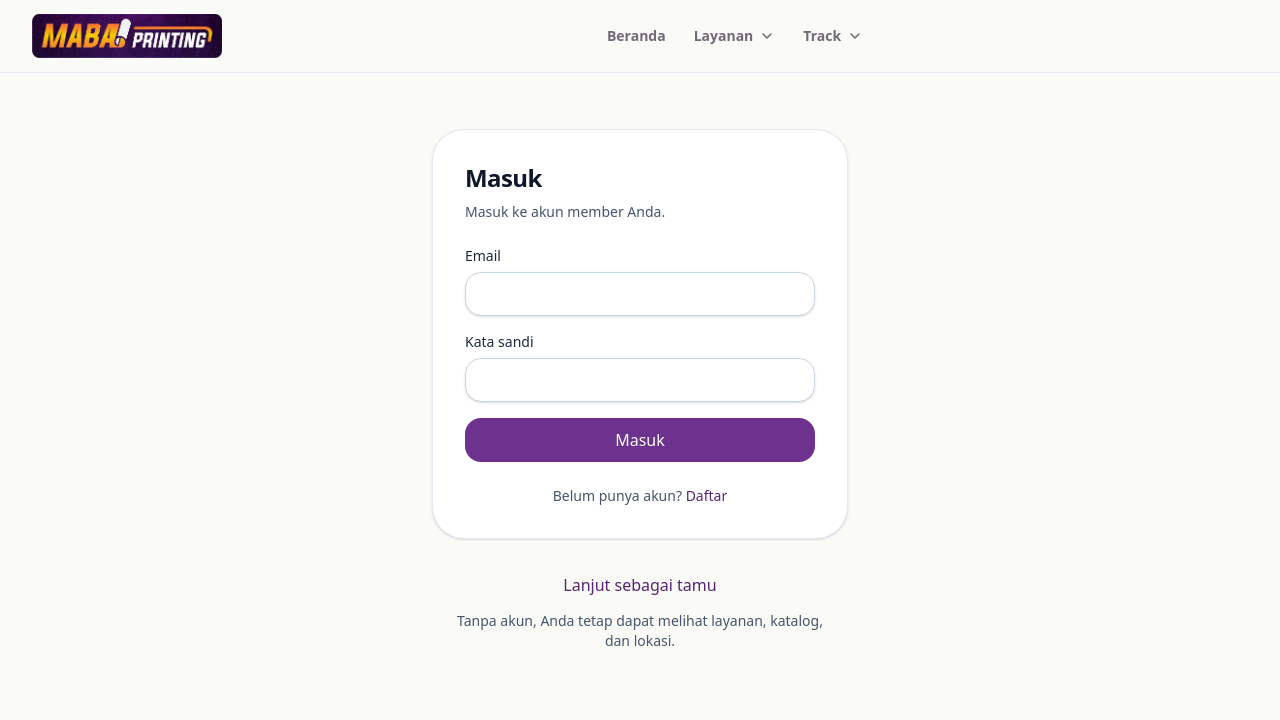
Login page › shows one generic message for rejected credentials
This screenshot has width=1280, height=720.
Expected: the heading "Masuk" is shown, x1=465 y1=161 x2=542 y2=194
Type "ana@example.test" into the field labelled "Email" at (640, 294), box x1=465 y1=272 x2=815 y2=316
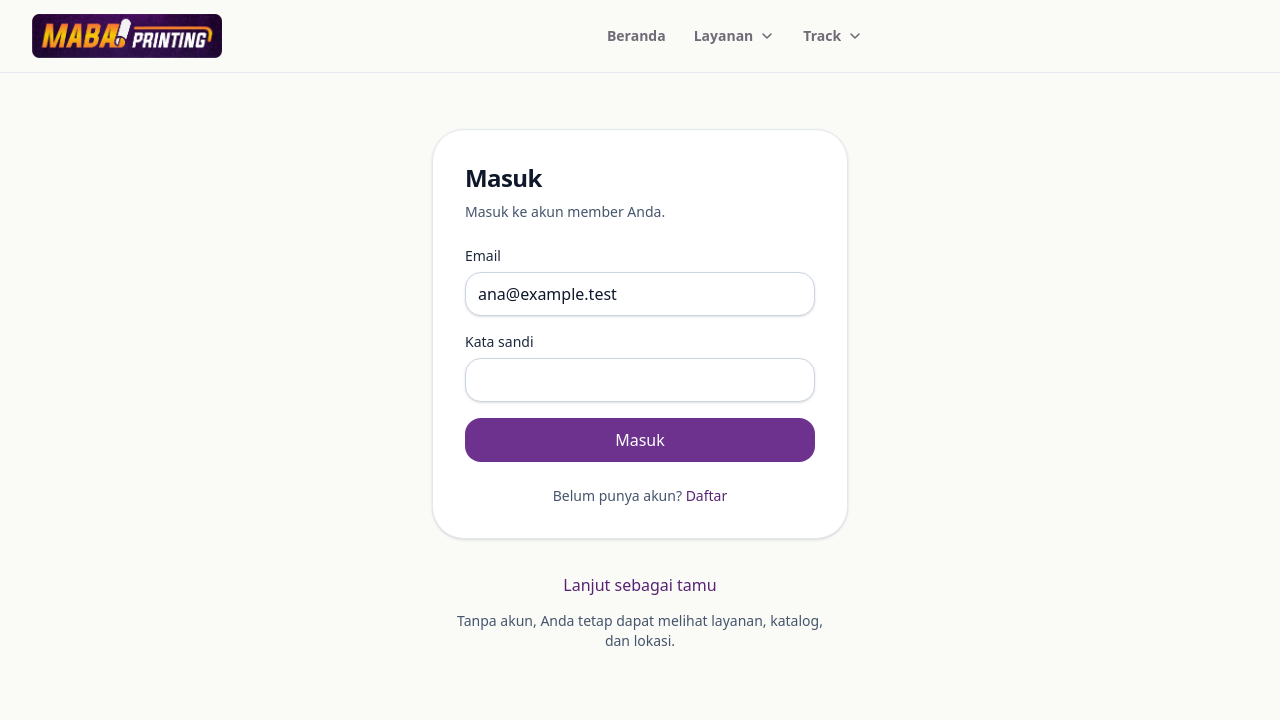
Type "wrong" into the password field labelled "Kata sandi" at (640, 380), box x1=465 y1=358 x2=815 y2=402
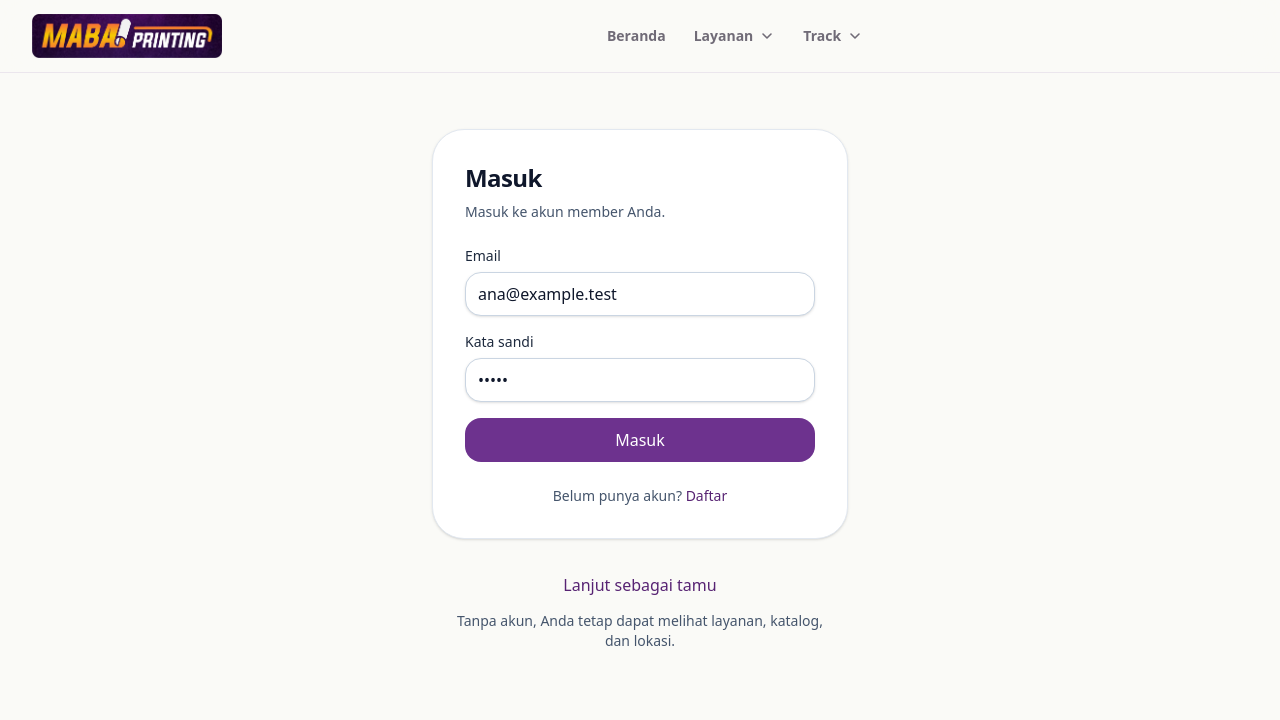
Click the button "Masuk" at (640, 440), box x1=465 y1=418 x2=815 y2=462
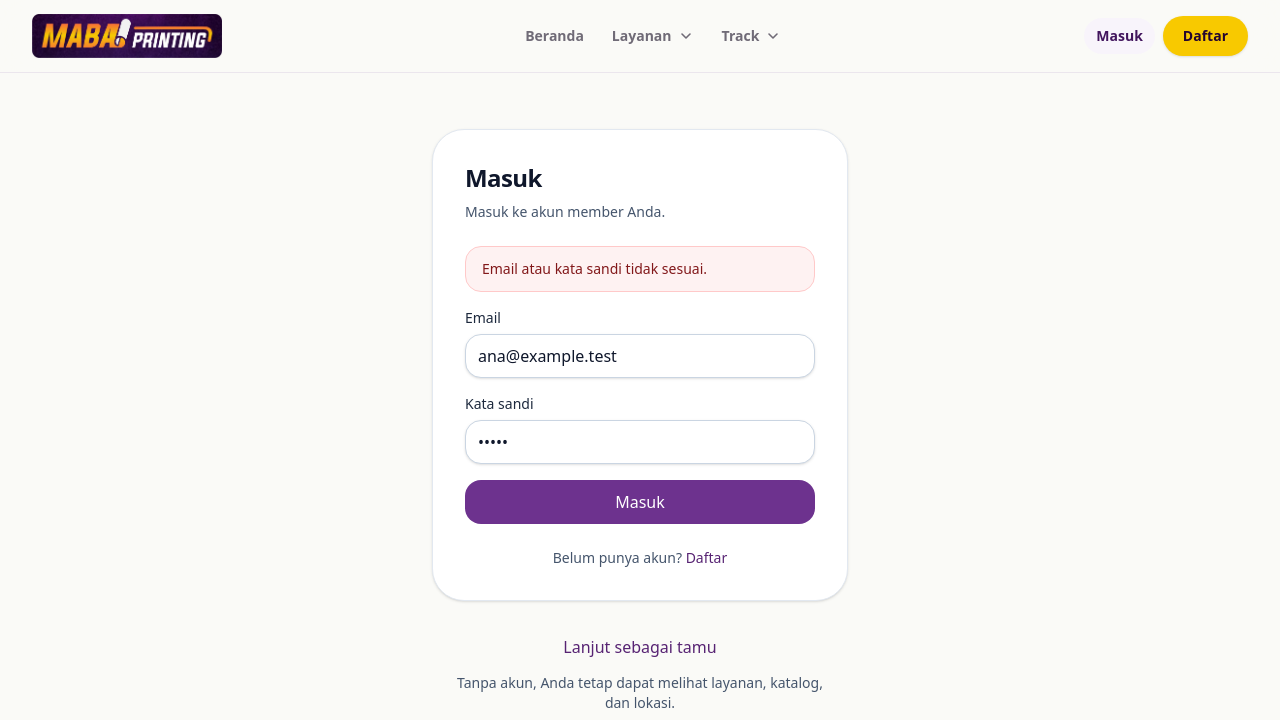
Now the message reads "Email atau kata sandi tidak sesuai.", box x1=482 y1=259 x2=707 y2=278
